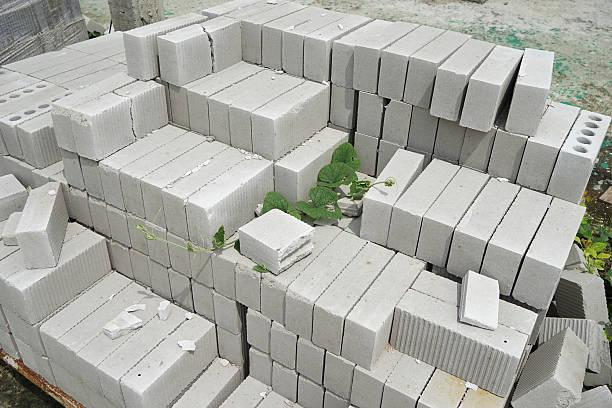Bricks: (388, 287, 530, 398), (5, 228, 113, 325), (341, 250, 426, 371), (97, 301, 194, 407), (77, 291, 172, 397), (311, 240, 396, 356), (58, 280, 153, 379), (120, 312, 219, 407), (285, 229, 368, 341), (259, 220, 345, 325), (40, 271, 133, 366), (185, 151, 274, 248), (512, 196, 587, 311), (410, 268, 538, 335), (140, 137, 231, 231), (475, 188, 553, 296), (163, 146, 251, 240), (414, 164, 493, 268), (71, 79, 169, 162), (446, 177, 522, 281), (119, 131, 208, 219), (387, 157, 462, 258), (102, 126, 187, 210), (250, 79, 328, 162), (360, 147, 426, 245), (156, 14, 245, 86), (511, 327, 591, 407), (207, 67, 285, 146), (212, 201, 273, 302), (230, 71, 306, 152), (187, 60, 266, 137), (548, 110, 611, 206), (399, 29, 473, 109), (457, 329, 532, 407), (123, 11, 208, 79), (459, 43, 523, 132), (428, 38, 496, 121), (517, 103, 581, 191), (169, 53, 242, 129), (377, 24, 447, 102), (1, 219, 88, 281), (239, 208, 315, 276), (0, 90, 72, 159), (353, 22, 420, 95), (304, 13, 371, 84), (16, 181, 70, 269), (240, 1, 308, 65), (261, 5, 327, 70), (506, 48, 554, 137), (331, 19, 392, 89), (283, 9, 347, 75), (308, 170, 377, 229), (170, 355, 241, 407), (539, 318, 602, 374), (274, 126, 349, 173), (351, 344, 404, 407), (52, 71, 137, 110), (381, 351, 435, 407), (555, 267, 608, 320), (17, 111, 62, 170), (12, 334, 58, 387), (460, 270, 500, 329), (3, 305, 46, 357), (416, 367, 470, 407), (43, 58, 119, 86), (489, 129, 528, 182), (28, 54, 106, 80), (15, 49, 90, 75), (1, 46, 77, 71), (459, 123, 497, 172), (217, 324, 250, 378), (217, 375, 271, 407), (322, 351, 356, 400), (234, 253, 262, 312), (407, 105, 439, 154), (433, 117, 469, 160), (584, 330, 611, 387), (297, 335, 327, 386), (381, 97, 412, 146), (222, 0, 291, 22), (213, 292, 246, 336), (0, 174, 29, 223), (374, 138, 404, 183), (267, 362, 297, 404), (65, 30, 125, 50), (105, 205, 132, 249), (146, 221, 171, 268), (248, 308, 271, 359), (168, 267, 194, 312), (202, 0, 266, 18), (66, 183, 92, 227), (328, 86, 354, 130), (352, 132, 379, 174), (190, 276, 214, 323), (359, 91, 383, 137), (271, 334, 299, 373), (126, 212, 149, 259), (189, 239, 212, 286), (129, 248, 154, 291), (79, 156, 103, 200), (149, 258, 173, 302), (165, 232, 189, 276), (109, 240, 136, 279), (88, 193, 110, 240), (564, 385, 611, 407), (81, 33, 130, 54), (60, 150, 85, 190), (51, 177, 73, 219), (48, 357, 71, 396), (248, 348, 272, 385), (0, 75, 43, 95), (64, 366, 86, 405), (298, 376, 325, 407), (1, 211, 22, 247), (255, 389, 294, 407), (407, 146, 432, 172), (81, 378, 103, 407), (0, 329, 20, 360), (32, 160, 64, 179), (94, 40, 126, 58), (1, 154, 24, 178), (17, 161, 35, 191), (322, 388, 350, 407), (429, 151, 459, 167), (344, 211, 363, 236), (0, 239, 21, 261), (0, 71, 26, 86), (327, 120, 350, 136), (48, 168, 66, 185), (0, 306, 11, 333), (34, 170, 49, 188), (109, 51, 128, 64), (104, 396, 125, 407), (0, 218, 9, 239), (0, 67, 13, 78), (290, 402, 304, 407), (122, 61, 128, 69)
